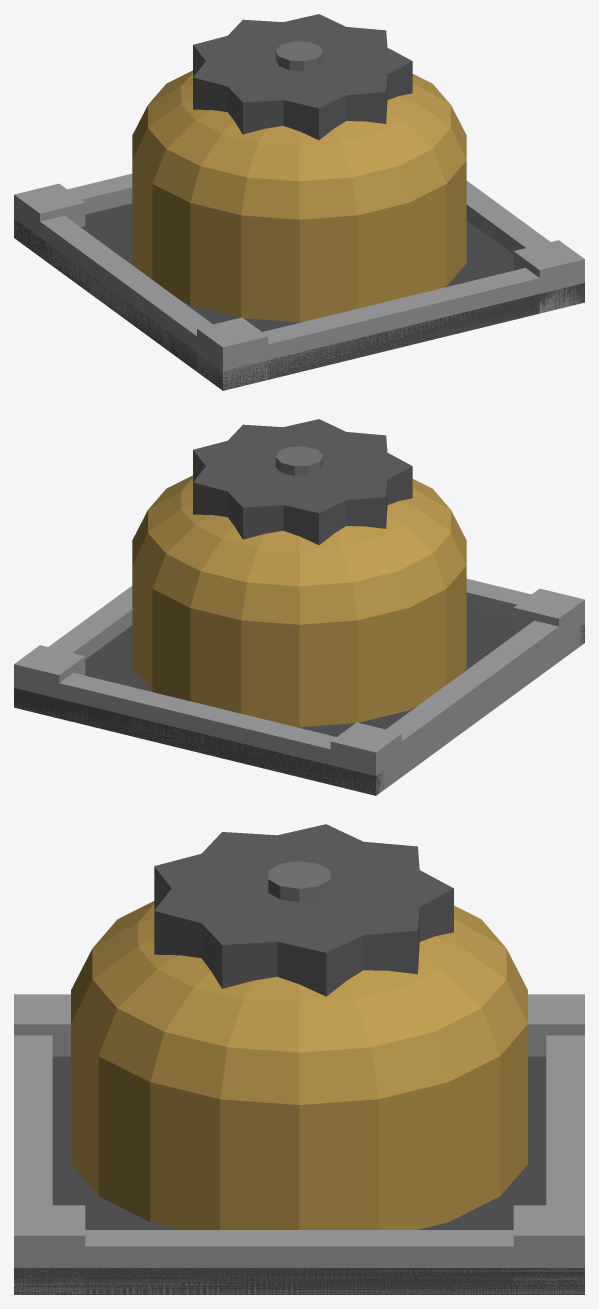
The model's file is vge_small_oxygen_tank.obj.
3 views of the same model, one above another, from view 1: azimuth 30°, elevation 25°; view 2: azimuth 150°, elevation 25°; view 3: azimuth 270°, elevation 25° (orthographic). The views are drawn at different scales.
Parts seen in each view (by area): view 1: vge_small_oxygen_tank_9, vge_small_oxygen_tank_10, vge_small_oxygen_tank_0, vge_small_oxygen_tank_1, vge_small_oxygen_tank_3, vge_small_oxygen_tank_7, vge_small_oxygen_tank_5, vge_small_oxygen_tank_4, vge_small_oxygen_tank_6, vge_small_oxygen_tank_2, vge_small_oxygen_tank_11; view 2: vge_small_oxygen_tank_9, vge_small_oxygen_tank_10, vge_small_oxygen_tank_2, vge_small_oxygen_tank_0, vge_small_oxygen_tank_3, vge_small_oxygen_tank_4, vge_small_oxygen_tank_1, vge_small_oxygen_tank_6, vge_small_oxygen_tank_5, vge_small_oxygen_tank_8, vge_small_oxygen_tank_11; view 3: vge_small_oxygen_tank_9, vge_small_oxygen_tank_10, vge_small_oxygen_tank_0, vge_small_oxygen_tank_4, vge_small_oxygen_tank_1, vge_small_oxygen_tank_2, vge_small_oxygen_tank_8, vge_small_oxygen_tank_7, vge_small_oxygen_tank_5, vge_small_oxygen_tank_6, vge_small_oxygen_tank_11.
Part boxes in pixels (x1,y1,x2,y2): vge_small_oxygen_tank_9: (132,70,466,322); vge_small_oxygen_tank_10: (193,14,412,139); vge_small_oxygen_tank_0: (14,203,584,390); vge_small_oxygen_tank_1: (209,268,584,390); vge_small_oxygen_tank_3: (28,213,212,379); vge_small_oxygen_tank_7: (513,240,584,313); vge_small_oxygen_tank_5: (197,317,268,389); vge_small_oxygen_tank_4: (466,181,549,254); vge_small_oxygen_tank_6: (14,183,85,250); vge_small_oxygen_tank_2: (14,173,132,246); vge_small_oxygen_tank_11: (275,41,323,70); vge_small_oxygen_tank_9: (132,475,466,727); vge_small_oxygen_tank_10: (193,419,412,544); vge_small_oxygen_tank_2: (14,672,389,795); vge_small_oxygen_tank_0: (14,608,584,795); vge_small_oxygen_tank_3: (386,618,570,785); vge_small_oxygen_tank_4: (49,586,132,659); vge_small_oxygen_tank_1: (466,578,584,652); vge_small_oxygen_tank_6: (330,722,401,795); vge_small_oxygen_tank_5: (513,588,584,640); vge_small_oxygen_tank_8: (14,645,85,715); vge_small_oxygen_tank_11: (275,446,323,475); vge_small_oxygen_tank_9: (71,901,527,1229); vge_small_oxygen_tank_10: (154,824,453,996); vge_small_oxygen_tank_0: (14,1056,584,1294); vge_small_oxygen_tank_4: (52,1230,546,1294); vge_small_oxygen_tank_1: (14,1035,52,1294); vge_small_oxygen_tank_2: (546,1035,584,1294); vge_small_oxygen_tank_8: (513,1205,584,1294); vge_small_oxygen_tank_7: (14,1205,85,1294); vge_small_oxygen_tank_5: (14,994,70,1056); vge_small_oxygen_tank_6: (528,994,584,1056); vge_small_oxygen_tank_11: (268,861,330,902).
Size of the model in its own units: 1.92 by 1.11 by 1.92.
